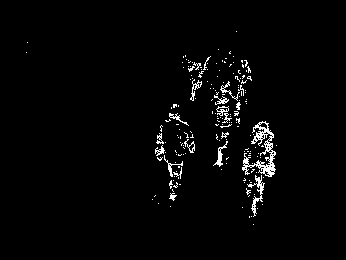person: (156, 102, 196, 201), (243, 118, 278, 223), (212, 81, 241, 167)
